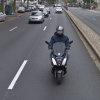Motorcycle: (38, 24, 75, 86)
